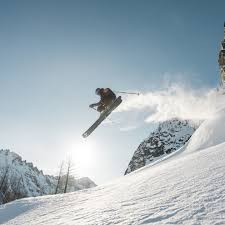skis: (79, 95, 126, 140)
